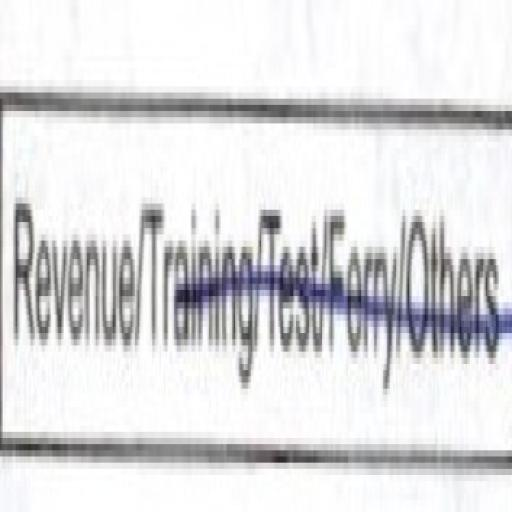check: (0, 12, 142, 512)
